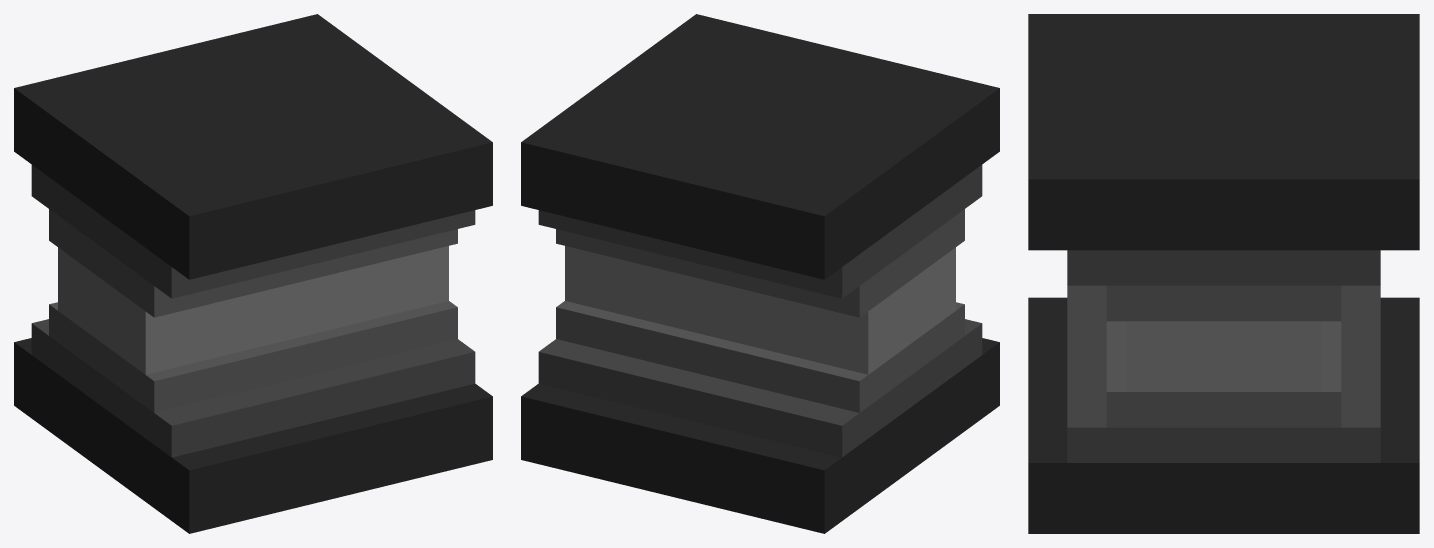
Rendered from Frame.obj.
3 views of the same model, side by side, from view 1: azimuth 30°, elevation 25°; view 2: azimuth 150°, elevation 25°; view 3: azimuth 270°, elevation 25° (orthographic). The views are drawn at different scales.
Visible parts, largest first — view 1: Untitled; view 2: Untitled; view 3: Untitled.
Part boxes in pixels (x1,y1,x2,y2): Untitled: (14,14,492,533); Untitled: (521,14,999,533); Untitled: (1028,14,1419,533).
Bounding box in the file's own units: 2 × 2 × 2.
